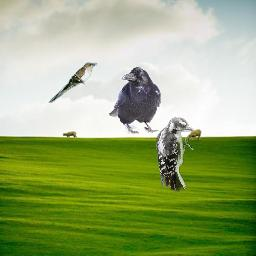Crow: (108, 66, 161, 134)
Cuckoo: (48, 62, 98, 104)
Woodpecker: (156, 117, 194, 192)
